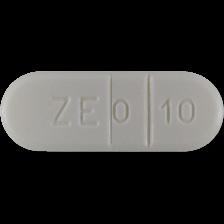68382-183: (0, 0, 224, 224)
